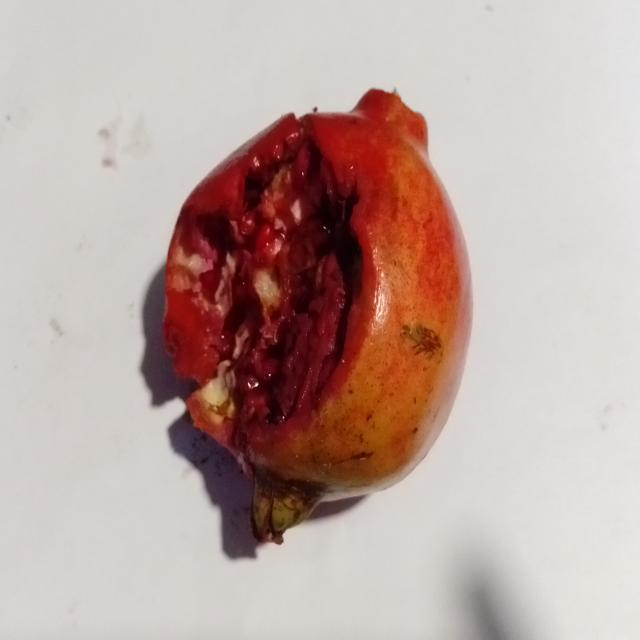Rotten: (157, 82, 480, 552)
